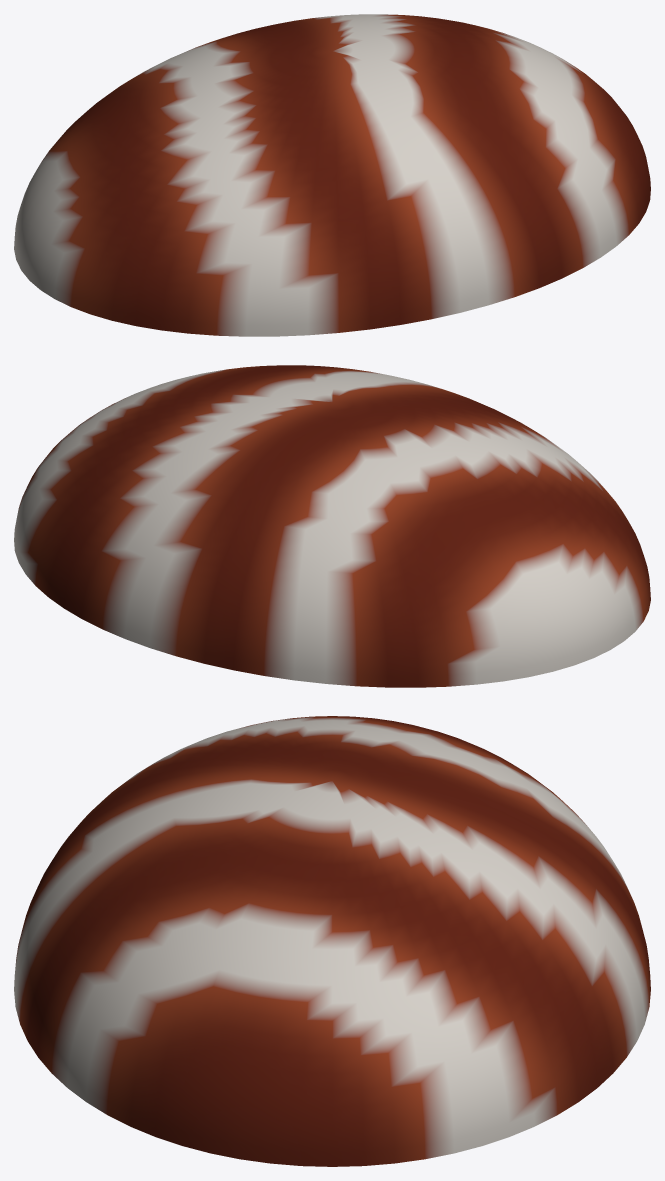
File: sardonyx.glb
3 views of the same model, one above another, from view 1: azimuth 30°, elevation 25°; view 2: azimuth 150°, elevation 25°; view 3: azimuth 270°, elevation 25° (orthographic). The views are drawn at different scales.
Parts seen in each view (by area): view 1: sardonyx; view 2: sardonyx; view 3: sardonyx.
Boxes of the visible parts, x1,y1,x2,y2 form: sardonyx: (14,14,650,336); sardonyx: (14,365,650,687); sardonyx: (14,716,650,1166).
Size of the model in its own units: 0.25 by 0.0688 by 0.19.
